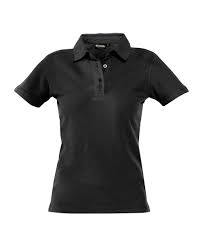C_polo shirt: (6, 30, 189, 217)
